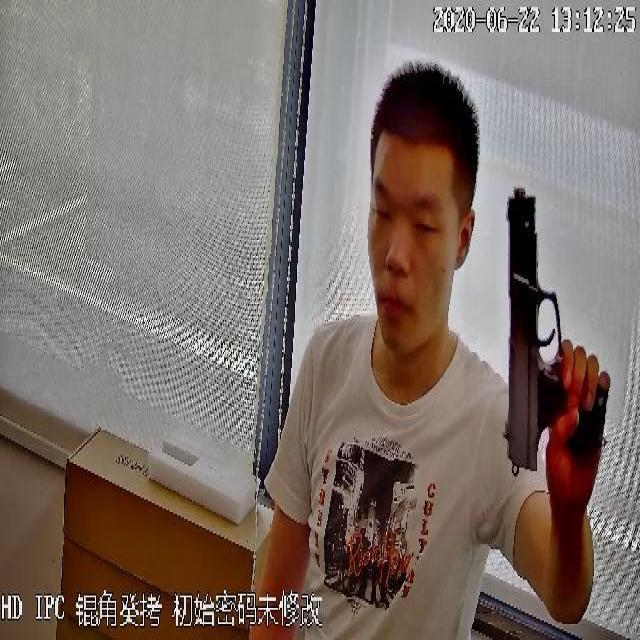pistol: (502, 186, 612, 486)
